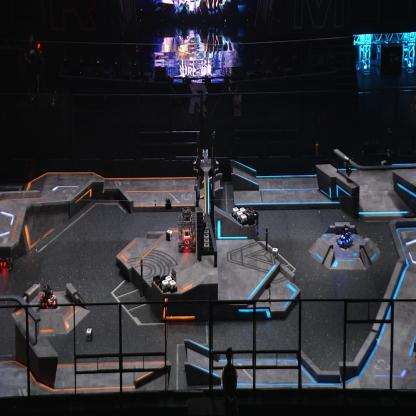car: (178, 206, 196, 253), (37, 281, 58, 310), (242, 208, 260, 240), (336, 223, 354, 249), (0, 242, 12, 271)
